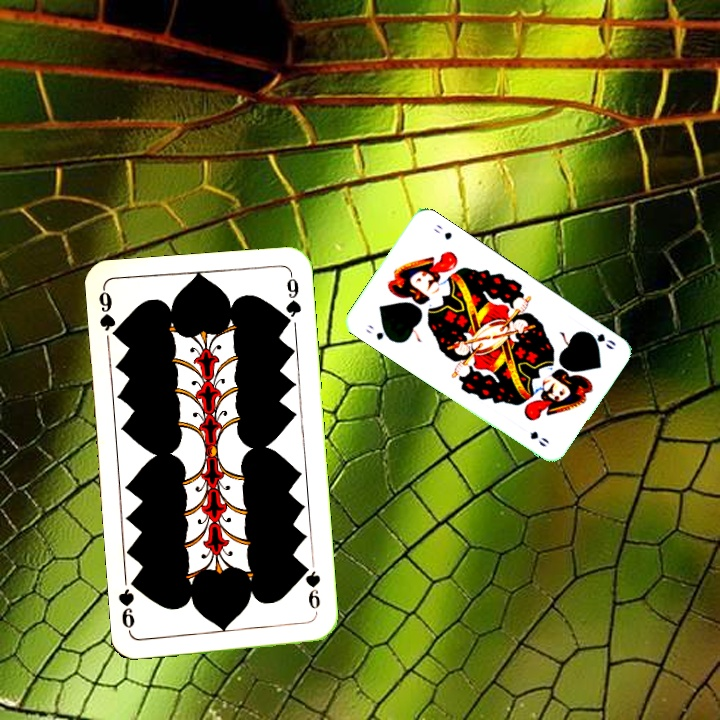G9: (95, 285, 123, 343), (299, 561, 323, 611)
GO: (580, 327, 618, 352), (362, 320, 395, 344)
